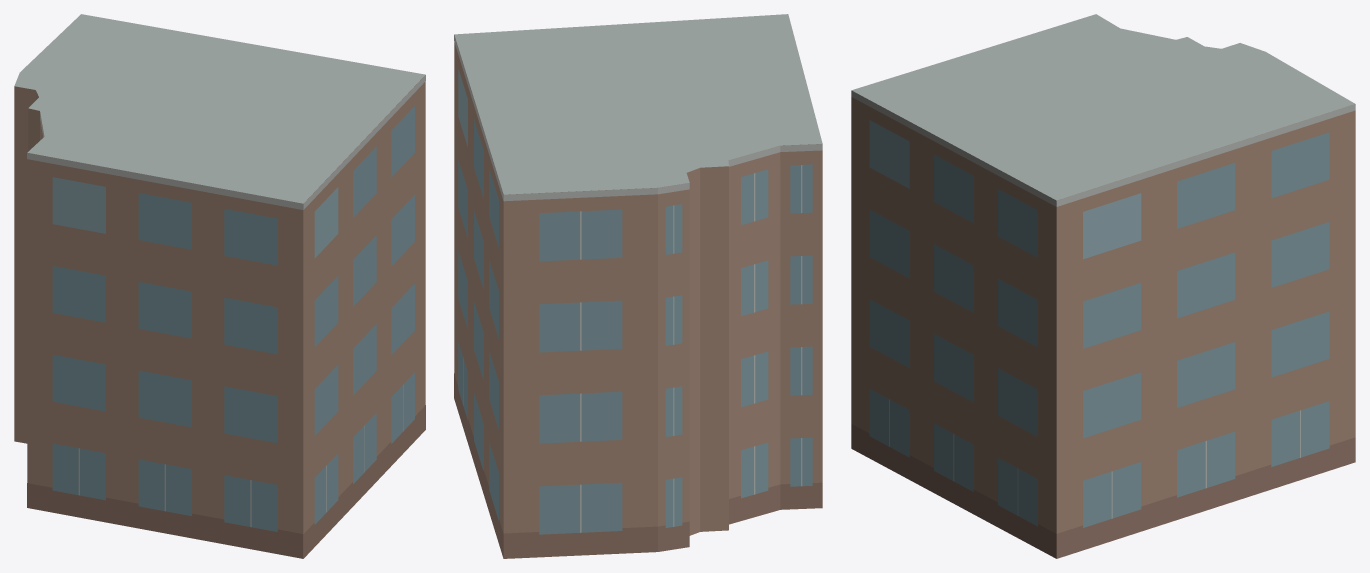
File: survey-upis-32693464.glb
3 views of the same model, side by side, from view 1: azimuth 30°, elevation 25°; view 2: azimuth 150°, elevation 25°; view 3: azimuth 270°, elevation 25° (orthographic). The views are drawn at different scales.
Parts seen in each view (by area): view 1: survey-upis-32693464.tmp; view 2: survey-upis-32693464.tmp; view 3: survey-upis-32693464.tmp.
Boxes of the visible parts, box(x1,y1,x2,y2) form: survey-upis-32693464.tmp: box(14, 14, 425, 558); survey-upis-32693464.tmp: box(454, 14, 822, 558); survey-upis-32693464.tmp: box(851, 14, 1355, 558).
Bounding box in the file's own units: 15.08 × 13.5 × 17.23.
